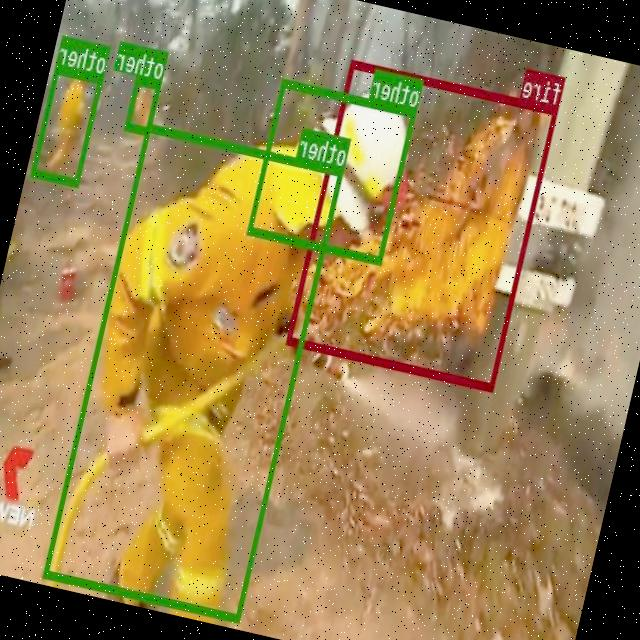fire: (287, 58, 560, 391)
